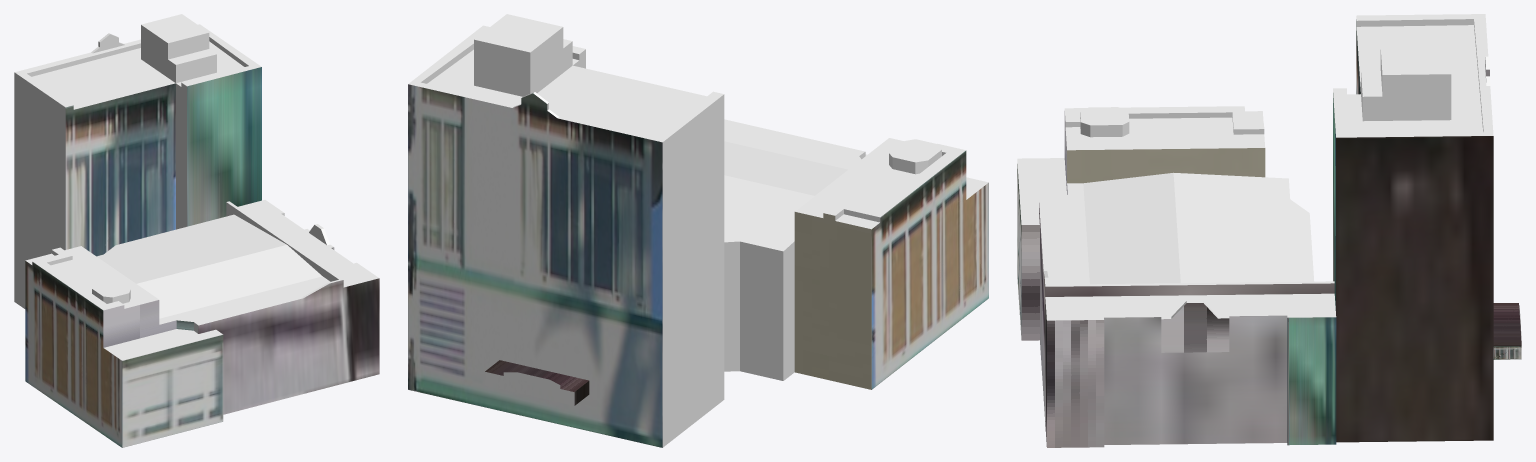
The model's file is olympia-theater.fbx.
The picture shows the model from 3 angles, left to right: view 1: azimuth 30°, elevation 25°; view 2: azimuth 150°, elevation 25°; view 3: azimuth 270°, elevation 25°; orthographic projection. The views are drawn at different scales.
Visible parts, largest first — view 1: Model; view 2: Model; view 3: Model.
Part boxes in pixels (x1=…): Model: x1=14, y1=14, x2=379, y2=447; Model: x1=408, y1=14, x2=988, y2=447; Model: x1=1017, y1=14, x2=1521, y2=447.
Size of what is drawn, in the model's own units: 1771 by 1611 by 2138.
